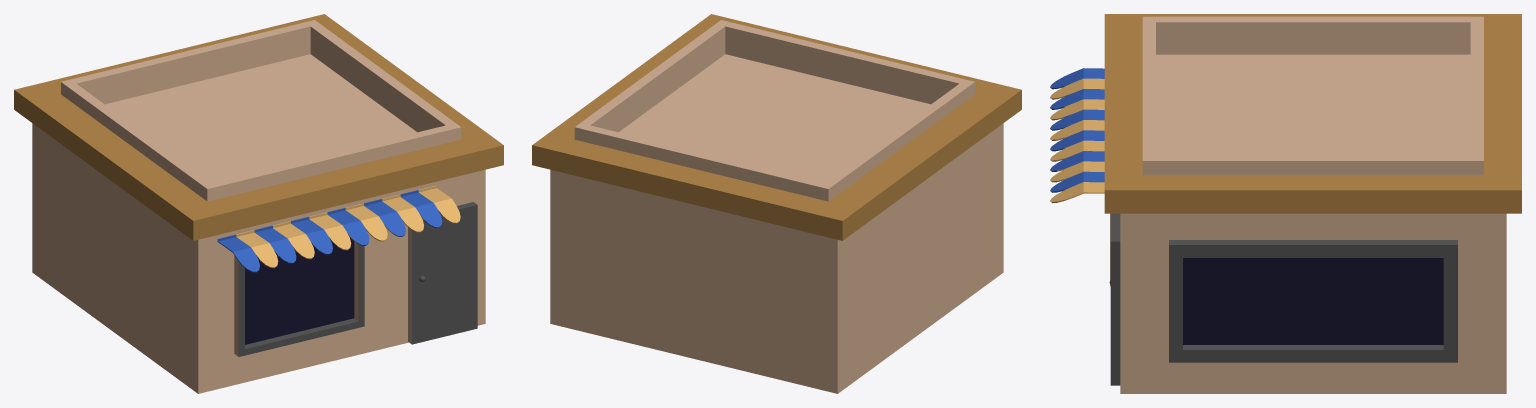
File: storev2.fbx
3 views of the same model, side by side, from view 1: azimuth 30°, elevation 25°; view 2: azimuth 150°, elevation 25°; view 3: azimuth 270°, elevation 25° (orthographic). The views are drawn at different scales.
Parts seen in each view (by area): view 1: storebase, door, Circle, Circle.001; view 2: storebase; view 3: storebase, Circle.001, Circle.
Boxes of the visible parts, x1,y1,x2,y2 form: storebase: [14, 14, 503, 393]; door: [415, 209, 473, 339]; Circle: [217, 190, 442, 272]; Circle.001: [236, 185, 460, 268]; storebase: [532, 14, 1021, 393]; storebase: [1104, 14, 1521, 393]; Circle.001: [1050, 78, 1104, 203]; Circle: [1050, 68, 1104, 192].
Size of the model in its own units: 216 by 128 by 244.
